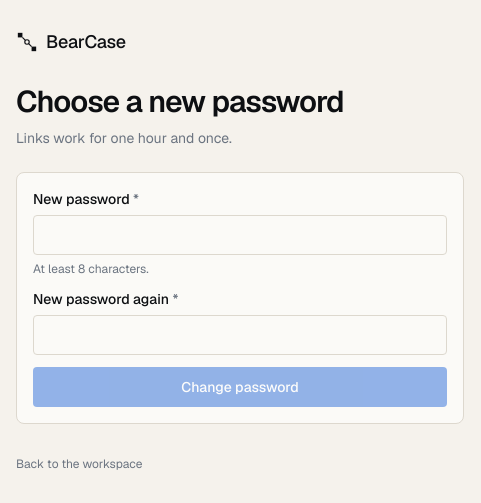
/reset › shows the API's reason with a link to request a new link when the token is refused
The width and height of the screenshot is (481, 503).
Type "correct horse" into the password field labelled "New password *" at (240, 235), box [33, 215, 447, 255]
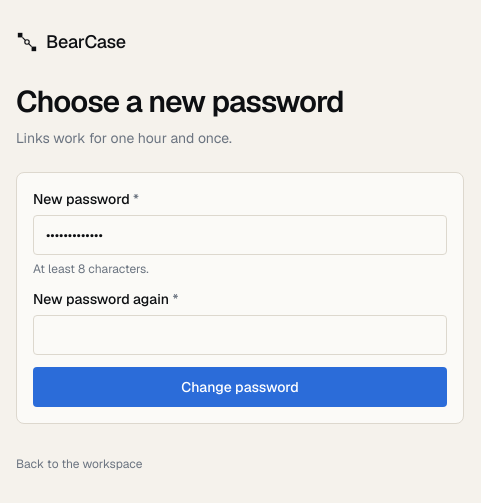
Type "correct horse" into the password field labelled "New password again *" at (240, 335), box [33, 315, 447, 355]
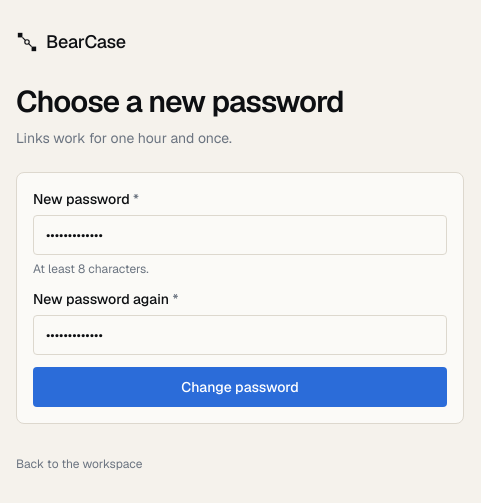
Click the button "Change password" at (240, 387), box [33, 367, 447, 407]
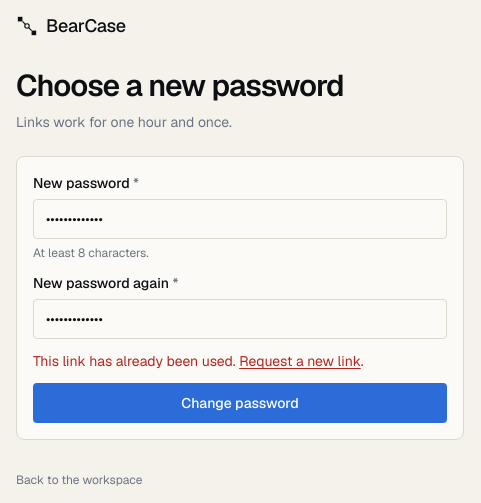
Check: the message shows "This link has already been used.", box [33, 352, 236, 370]
